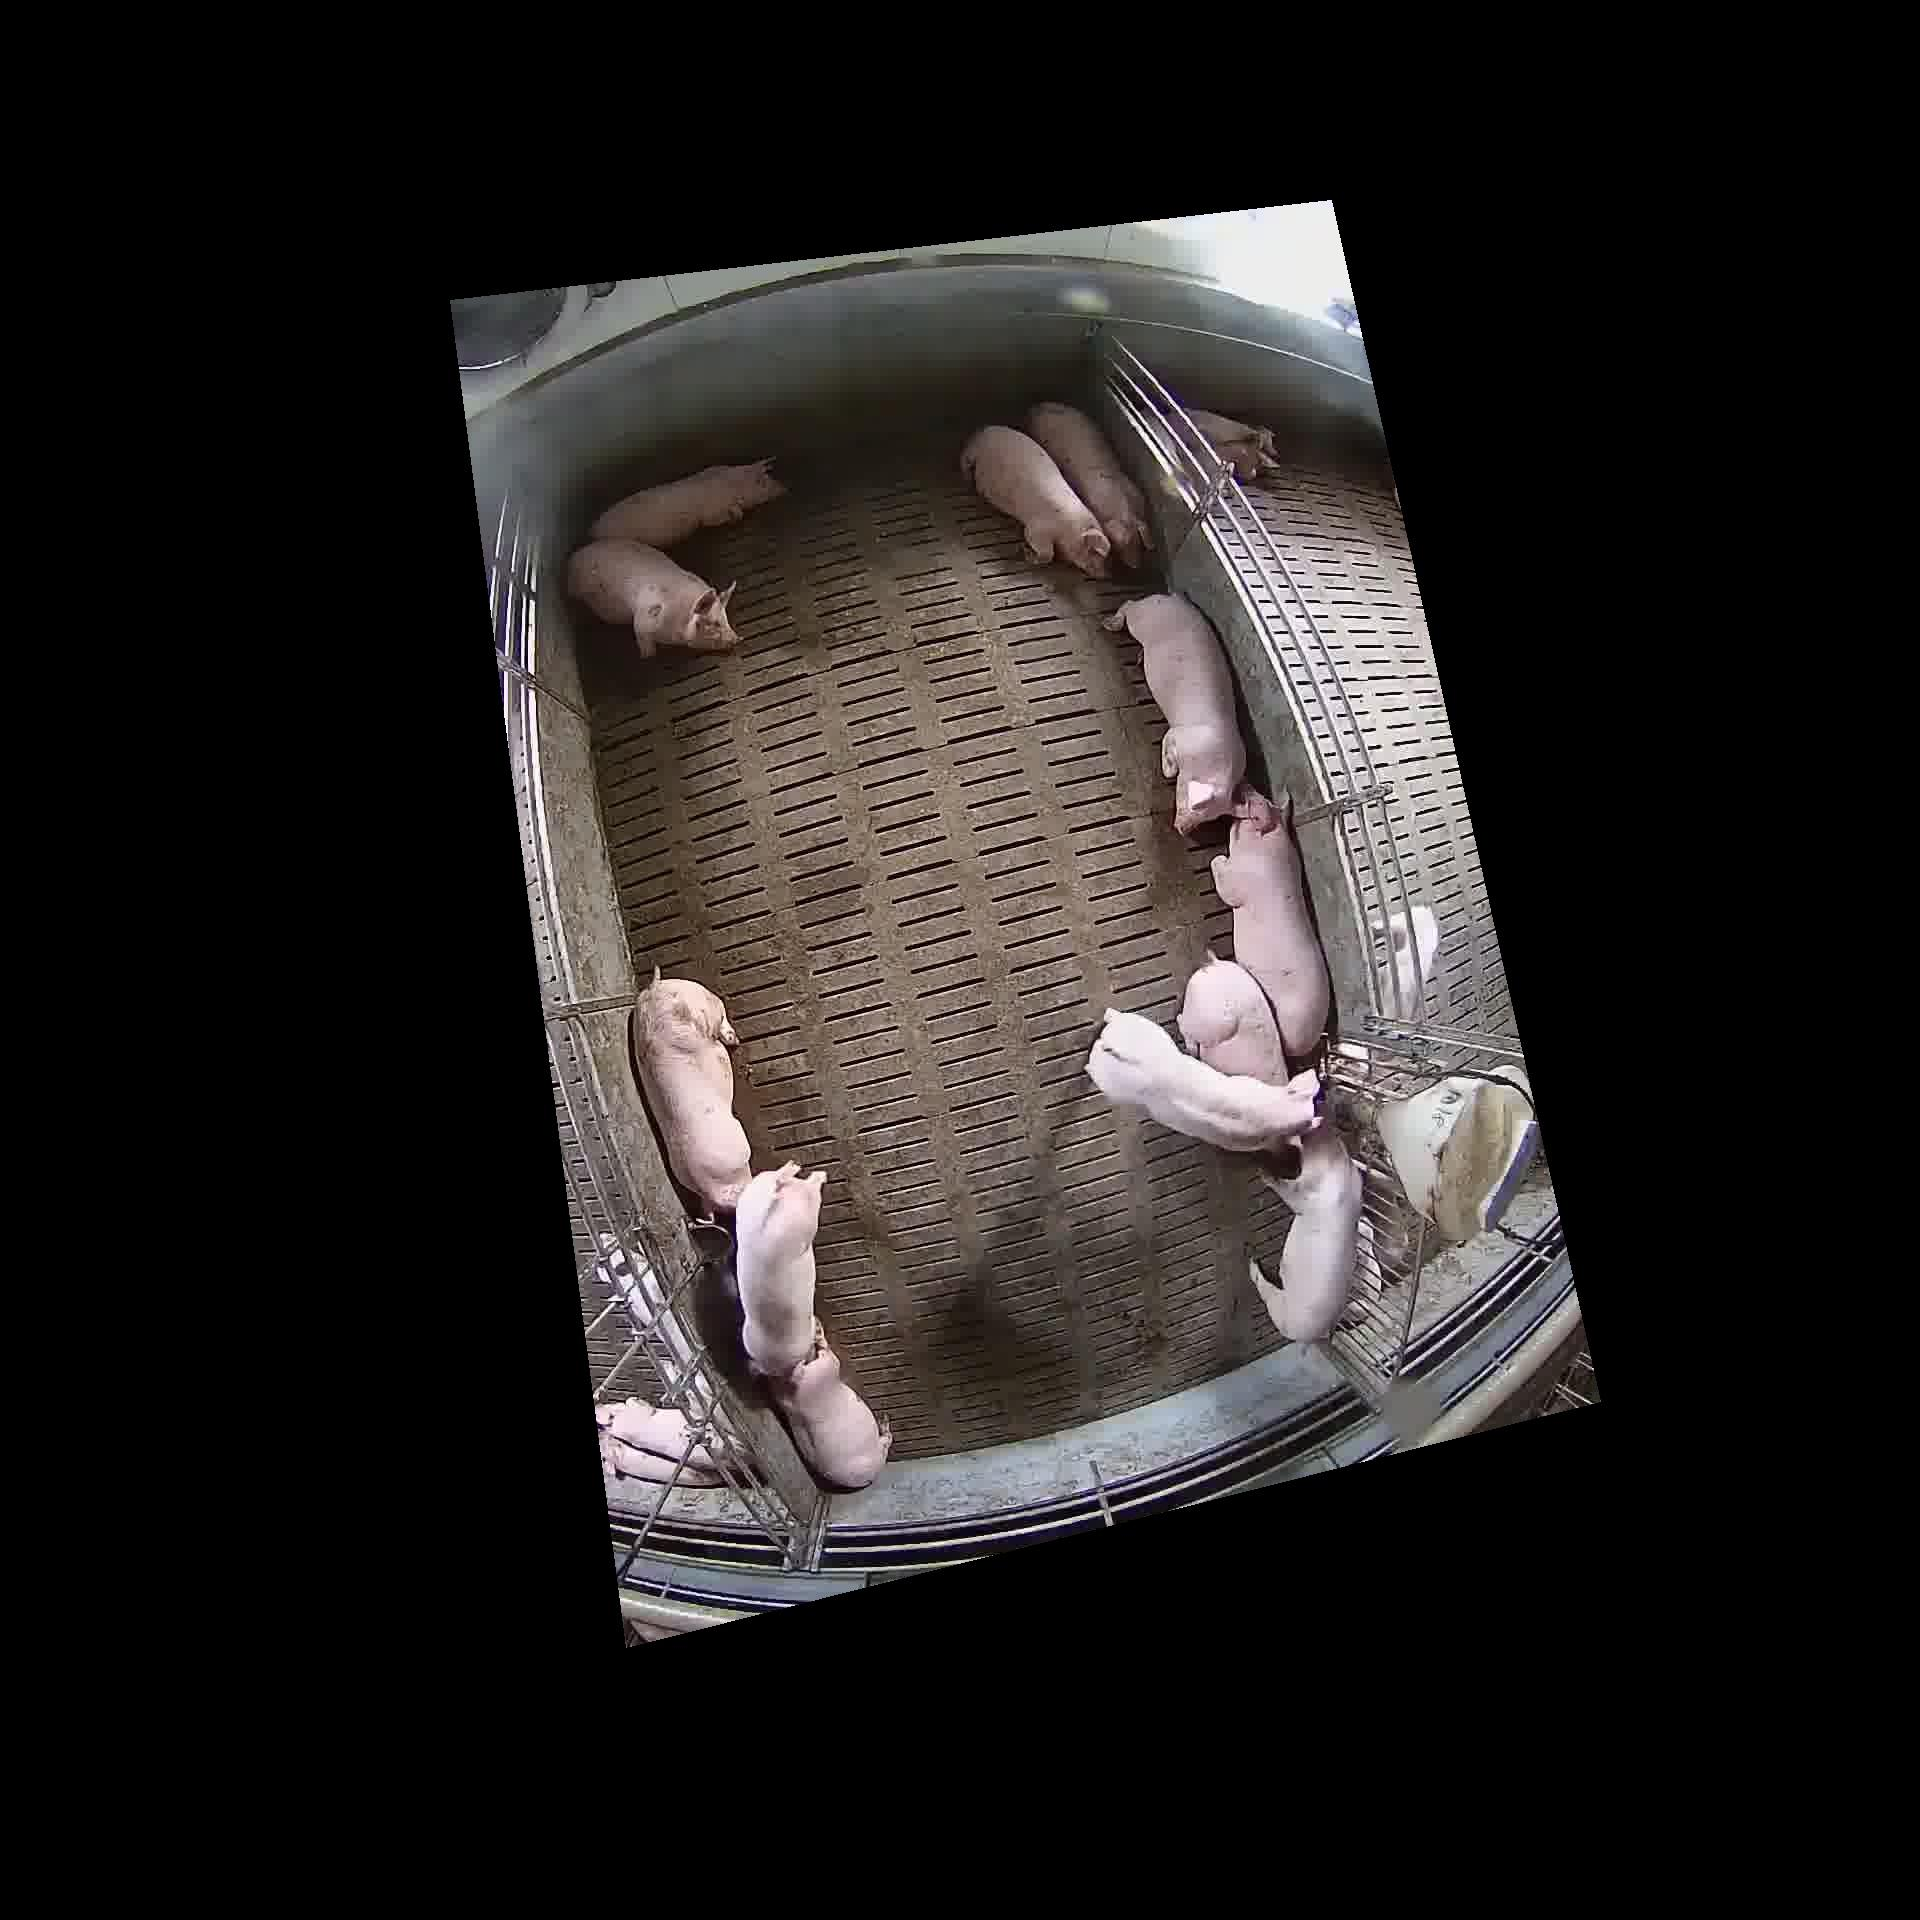pig: (1087, 1007, 1317, 1148), (1106, 594, 1241, 826), (1213, 784, 1327, 1037), (633, 971, 747, 1210), (1252, 1102, 1359, 1340), (960, 425, 1106, 573), (568, 536, 737, 656), (1027, 403, 1148, 564), (768, 1331, 890, 1489), (733, 1162, 823, 1373), (587, 450, 782, 543), (1176, 956, 1285, 1083)
